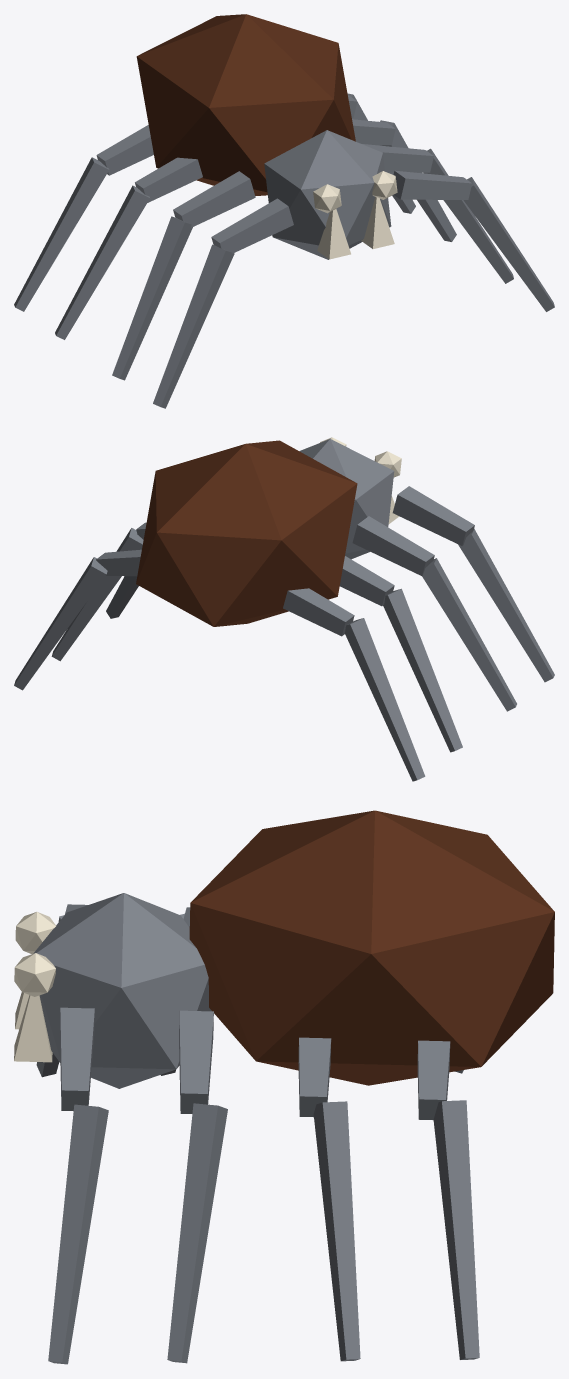
File: npcpose_spider_idle_10.glb
3 views of the same model, one above another, from view 1: azimuth 30°, elevation 25°; view 2: azimuth 150°, elevation 25°; view 3: azimuth 270°, elevation 25° (orthographic). The views are drawn at different scales.
Parts seen in each view (by area): view 1: npcpose; view 2: npcpose; view 3: npcpose.
Part boxes in pixels (x1,y1,x2,y2): npcpose: [14, 14, 554, 408]; npcpose: [14, 437, 554, 781]; npcpose: [14, 810, 554, 1364].
Size of the model in its own units: 1.33 by 0.8321 by 0.9991.
